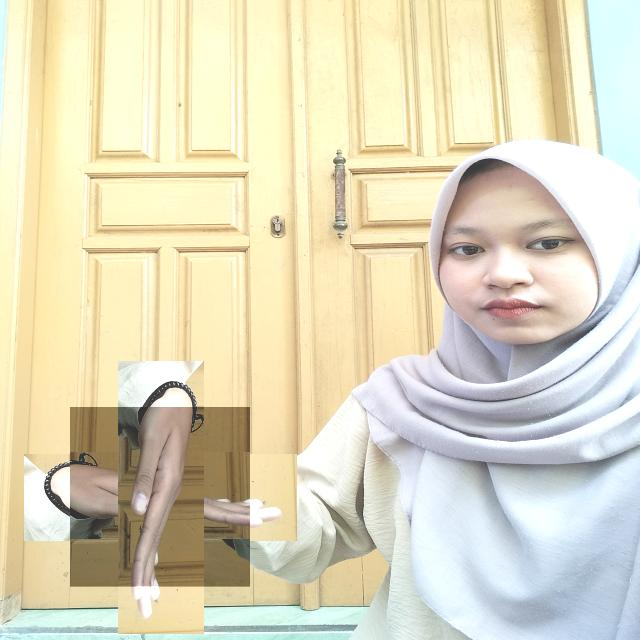adik: (70, 408, 250, 588)
